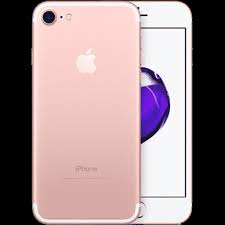iphone: (25, 1, 141, 221)
iphone7: (27, 1, 191, 224)
